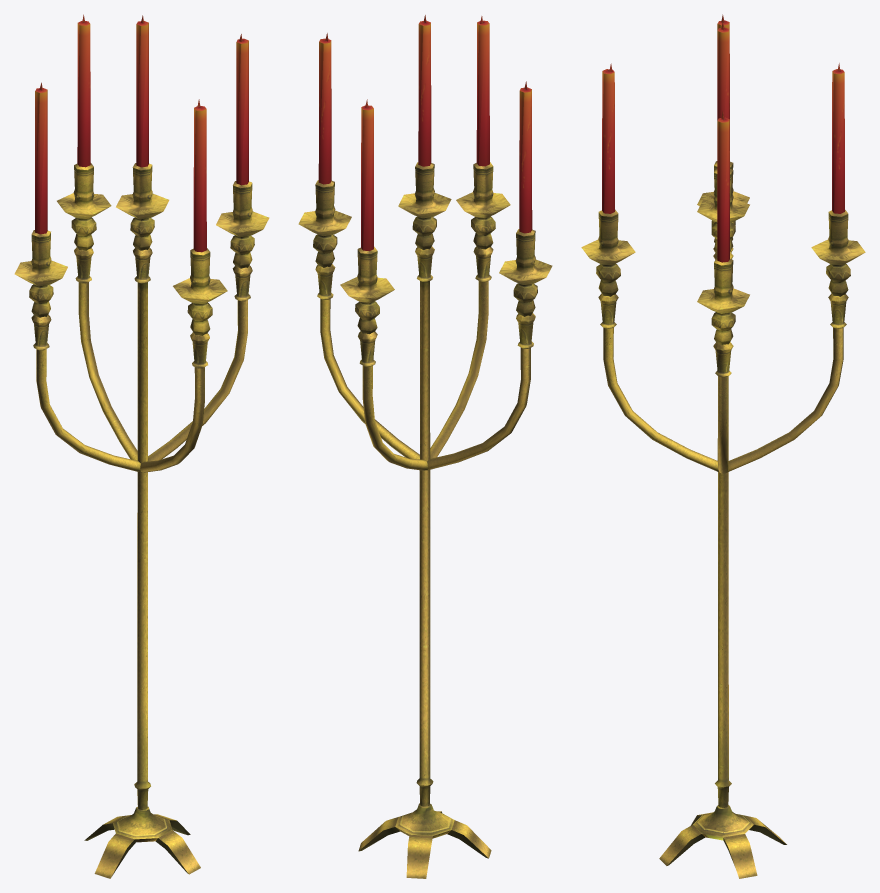
Rendered from chandelier2.fbx.
3 views of the same model, side by side, from view 1: azimuth 30°, elevation 25°; view 2: azimuth 150°, elevation 25°; view 3: azimuth 270°, elevation 25° (orthographic).
Parts seen in each view (by area): view 1: Mesh Object; view 2: Mesh Object; view 3: Mesh Object.
Boxes of the visible parts, x1=… form: Mesh Object: x1=14, y1=14, x2=269, y2=878; Mesh Object: x1=298, y1=15, x2=552, y2=878; Mesh Object: x1=581, y1=14, x2=865, y2=878.
Size of the model in its own units: 0.9153 by 2.95 by 0.9153.
